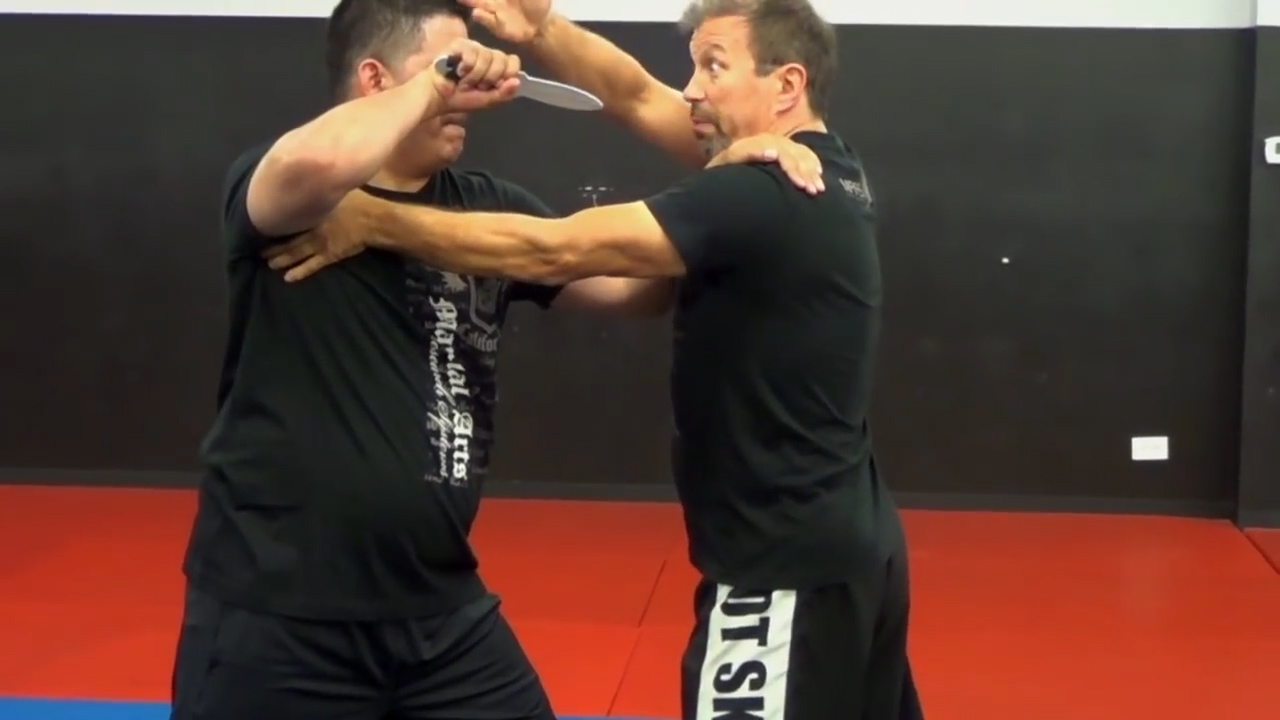knife: (433, 40, 614, 126)
